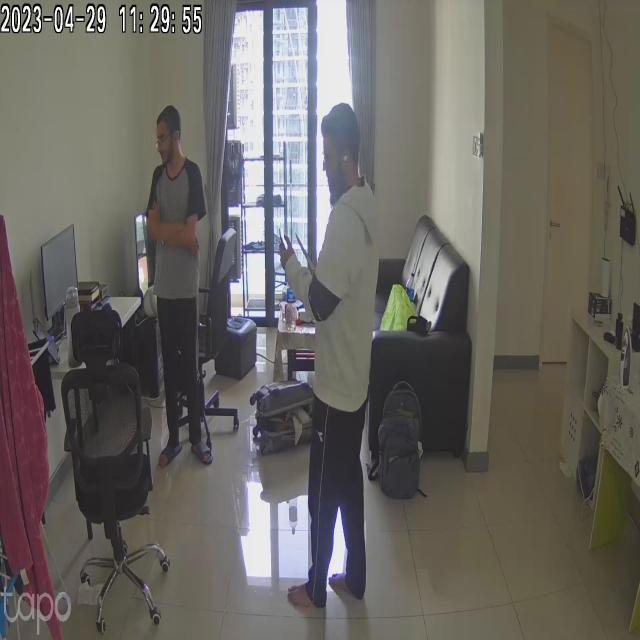Knife: (290, 226, 318, 272)
